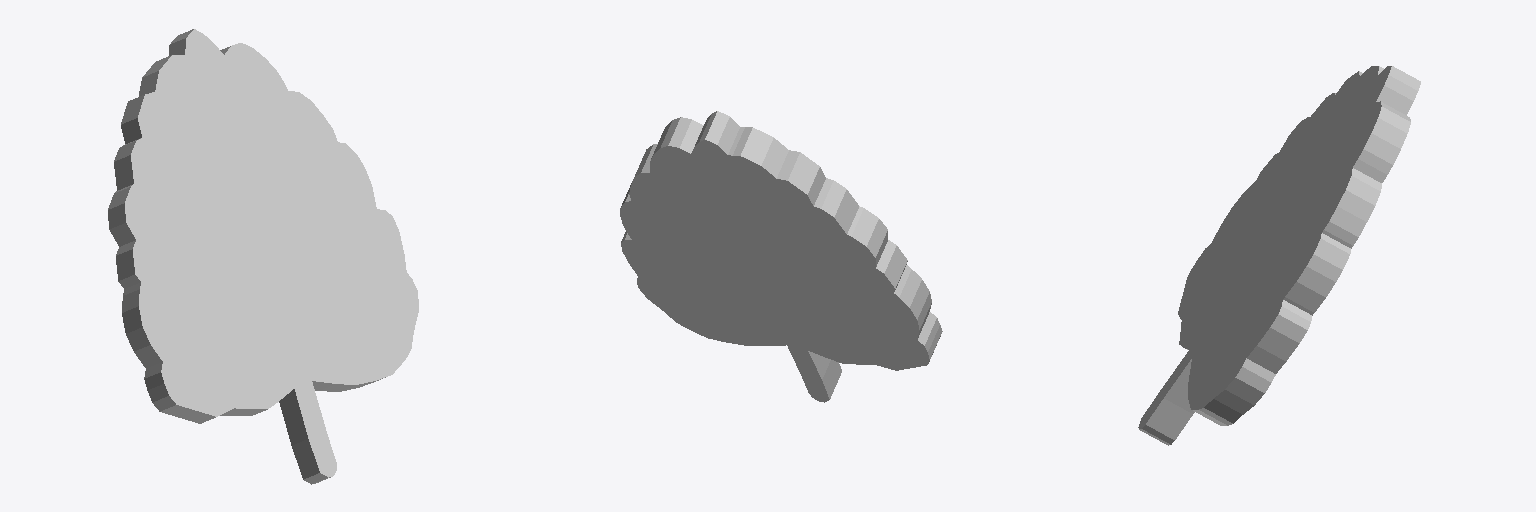
File: melise_pickup.obj
The picture shows the model from 3 angles: view 1: azimuth 30°, elevation 25°; view 2: azimuth 150°, elevation 25°; view 3: azimuth 270°, elevation 25°; orthographic projection.
Visible parts, largest first — view 1: ikona_melisy_model.007; view 2: ikona_melisy_model.007; view 3: ikona_melisy_model.007.
Part boxes in pixels (bbox=[...]): ikona_melisy_model.007: bbox=[108, 29, 418, 484]; ikona_melisy_model.007: bbox=[620, 111, 942, 402]; ikona_melisy_model.007: bbox=[1138, 66, 1420, 445].
Size of the model in its own units: 1.08 by 1.39 by 0.9475.